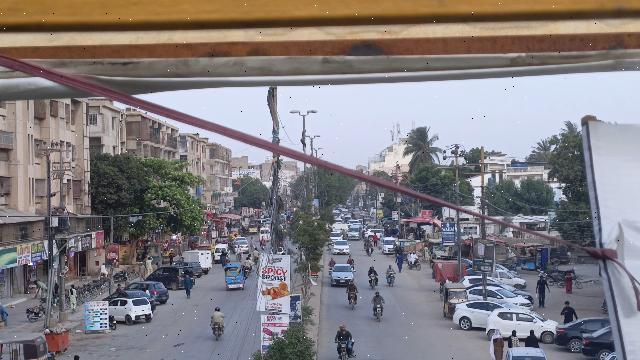Bike: (334, 340, 353, 360), (210, 320, 225, 342), (373, 301, 387, 321), (347, 292, 360, 310), (367, 273, 380, 290), (387, 272, 396, 287)
Car: (486, 307, 556, 342), (553, 314, 608, 352), (453, 297, 499, 330), (576, 323, 615, 358), (107, 297, 154, 326), (148, 265, 198, 291), (129, 279, 170, 306), (111, 289, 158, 309), (330, 263, 355, 287)
Person: (486, 326, 506, 360), (534, 276, 551, 310), (559, 299, 577, 322), (67, 281, 79, 315), (180, 271, 194, 300), (333, 324, 353, 342), (524, 329, 539, 348), (507, 329, 520, 348), (212, 304, 224, 322), (372, 288, 384, 305), (345, 280, 358, 294), (386, 262, 396, 275), (368, 264, 377, 275)
Rickshaw: (440, 281, 470, 320), (223, 261, 245, 294)
Truck: (179, 250, 217, 274)
